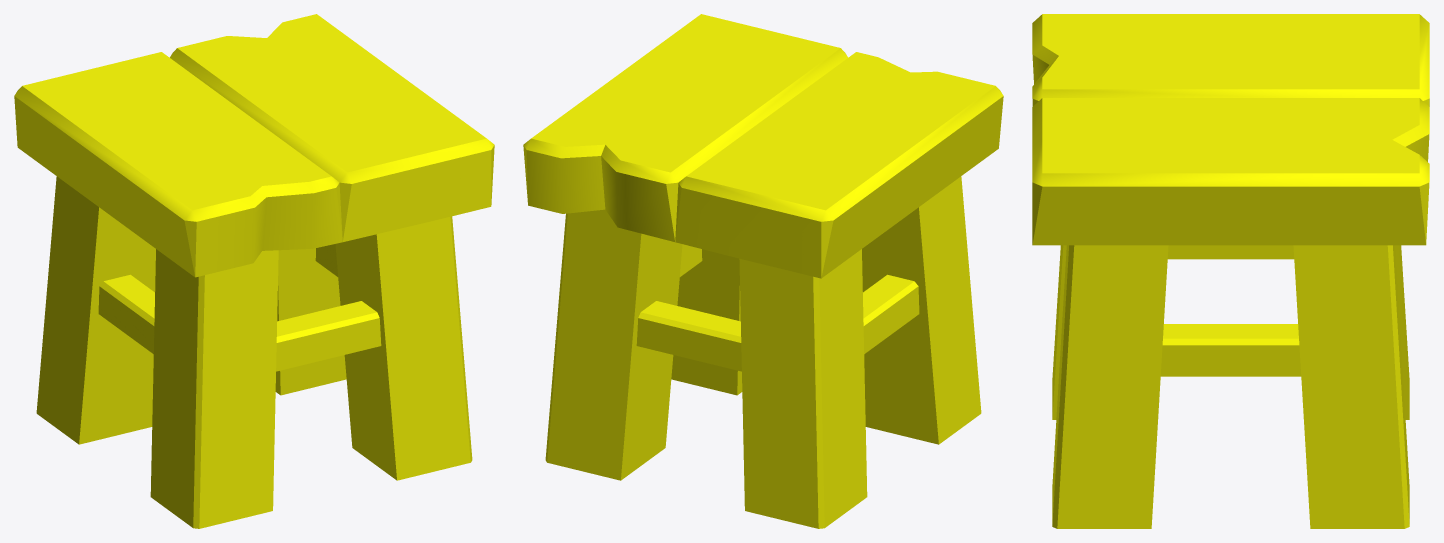
Rendered from kaykit-table-small.glb.
The picture shows the model from 3 angles, left to right: view 1: azimuth 30°, elevation 25°; view 2: azimuth 150°, elevation 25°; view 3: azimuth 270°, elevation 25°; orthographic projection. The views are drawn at different scales.
Visible parts, largest first — view 1: table_small; view 2: table_small; view 3: table_small.
Part boxes in pixels (x1,y1,x2,y2): table_small: (14, 14, 494, 528); table_small: (523, 14, 1003, 528); table_small: (1032, 14, 1429, 528).
Size of the model in its own units: 1 by 1 by 1.
